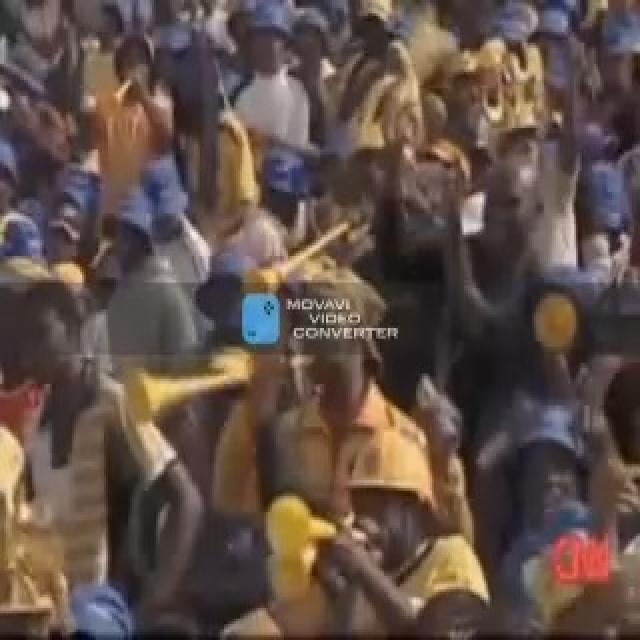non-voilence: (0, 0, 638, 637), (210, 264, 484, 635), (284, 293, 398, 344)
